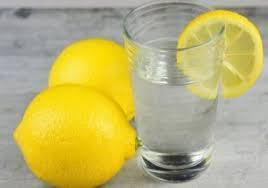lemon: (13, 84, 140, 188), (176, 10, 264, 99), (48, 38, 136, 123)
